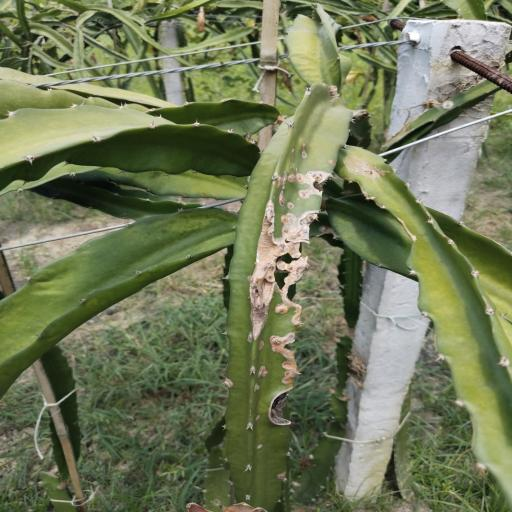stemcanker: (252, 441, 269, 452), (249, 382, 263, 394), (301, 143, 309, 162), (286, 161, 300, 171), (326, 156, 336, 167), (254, 442, 265, 452), (288, 165, 300, 174), (326, 157, 336, 167), (253, 414, 264, 423), (259, 338, 266, 352), (287, 201, 299, 209), (255, 442, 264, 452), (286, 201, 296, 210), (326, 157, 336, 166), (254, 414, 262, 425), (287, 147, 297, 155), (253, 413, 261, 423), (258, 341, 266, 351), (289, 146, 297, 156), (327, 159, 337, 167), (290, 146, 297, 157), (287, 202, 295, 211), (254, 413, 262, 422), (256, 441, 262, 451), (277, 430, 285, 437), (293, 196, 302, 202), (231, 288, 240, 294), (287, 165, 295, 171)
